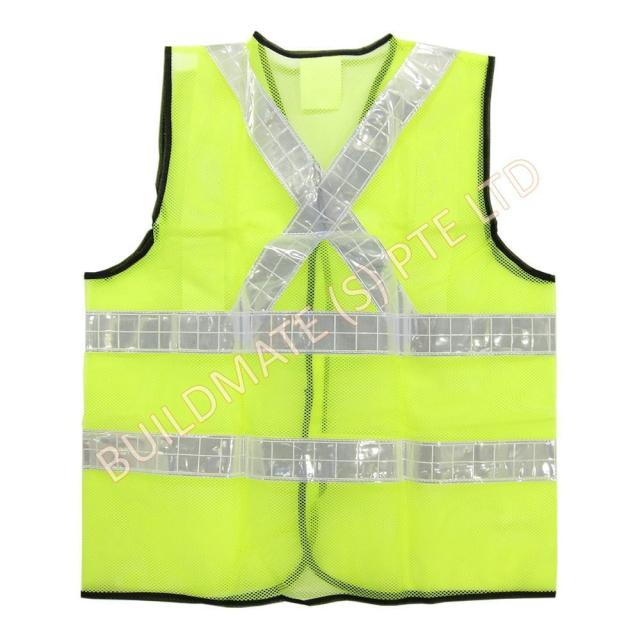Vest: (83, 25, 557, 608)
